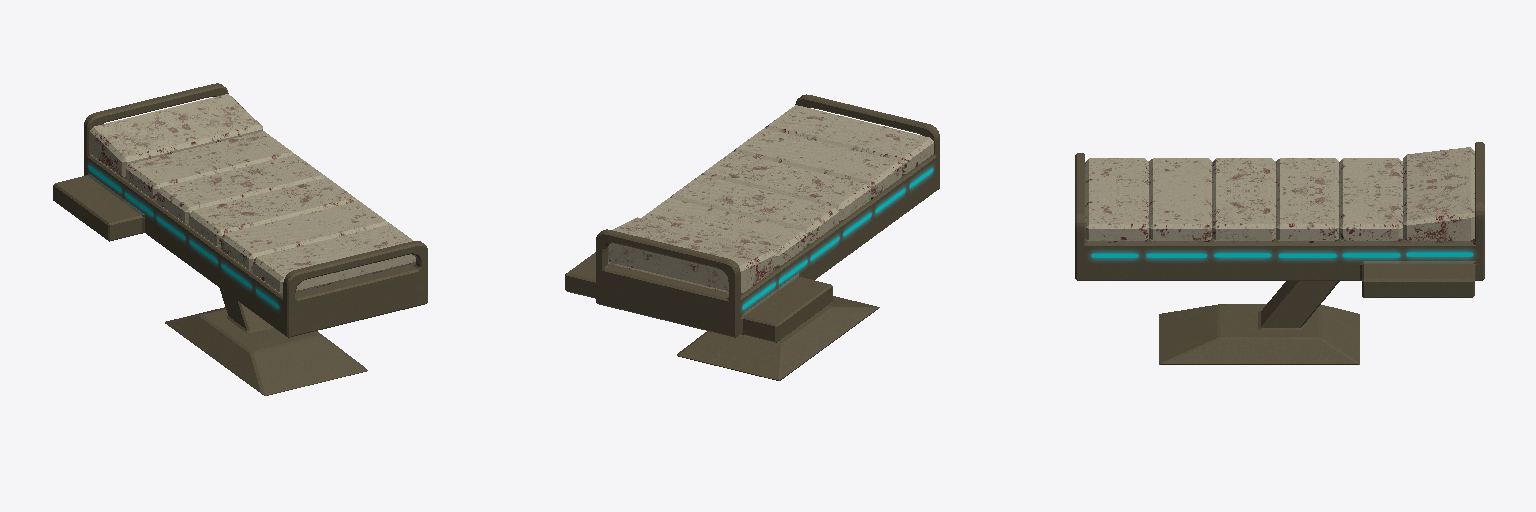
3 views of the same model, side by side, from view 1: azimuth 30°, elevation 25°; view 2: azimuth 150°, elevation 25°; view 3: azimuth 270°, elevation 25° (orthographic).
Parts seen in each view (by area): view 1: Cube_Cube.004_Cube_Cube.004; view 2: Cube_Cube.004_Cube_Cube.004; view 3: Cube_Cube.004_Cube_Cube.004.
Boxes of the visible parts, <box> form: Cube_Cube.004_Cube_Cube.004: <box>53,83,427,395</box>; Cube_Cube.004_Cube_Cube.004: <box>565,94,939,380</box>; Cube_Cube.004_Cube_Cube.004: <box>1075,142,1484,364</box>.
Bounding box in the file's own units: 1.2 × 0.9 × 2.
1 materials, 1 textured.